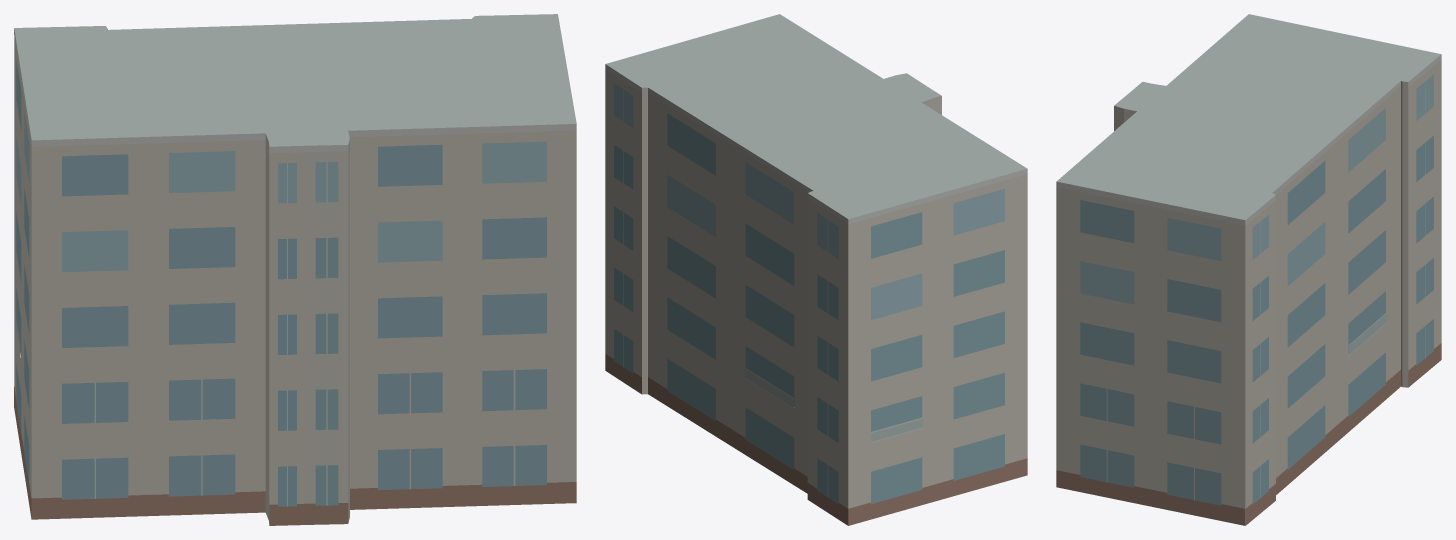
File: survey-upis-32893929.glb
3 renders of one model, left to right at view 1: azimuth 30°, elevation 25°; view 2: azimuth 150°, elevation 25°; view 3: azimuth 270°, elevation 25°, orthographic. The views are drawn at different scales.
Parts seen in each view (by area): view 1: survey-upis-32893929.tmp; view 2: survey-upis-32893929.tmp; view 3: survey-upis-32893929.tmp.
Boxes of the visible parts, x1=… form: survey-upis-32893929.tmp: x1=14, y1=14, x2=576, y2=525; survey-upis-32893929.tmp: x1=605, y1=14, x2=1027, y2=525; survey-upis-32893929.tmp: x1=1056, y1=14, x2=1441, y2=525.
Size of the model in its own units: 20.84 by 14.4 by 16.45.
